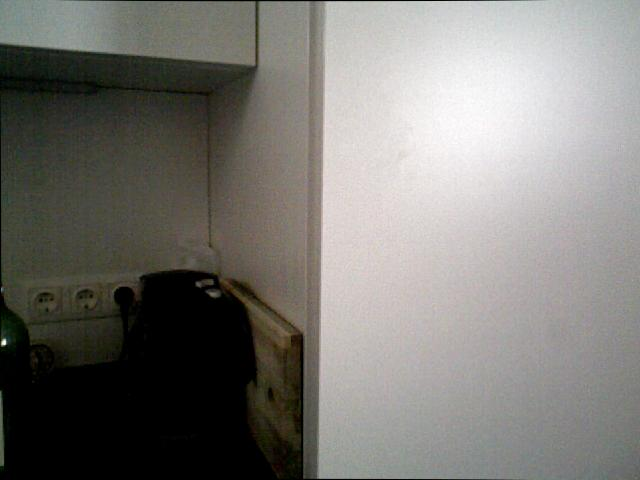bench: (0, 284, 32, 473)
giraffe: (26, 337, 61, 381)
hot dog: (263, 3, 640, 480)
